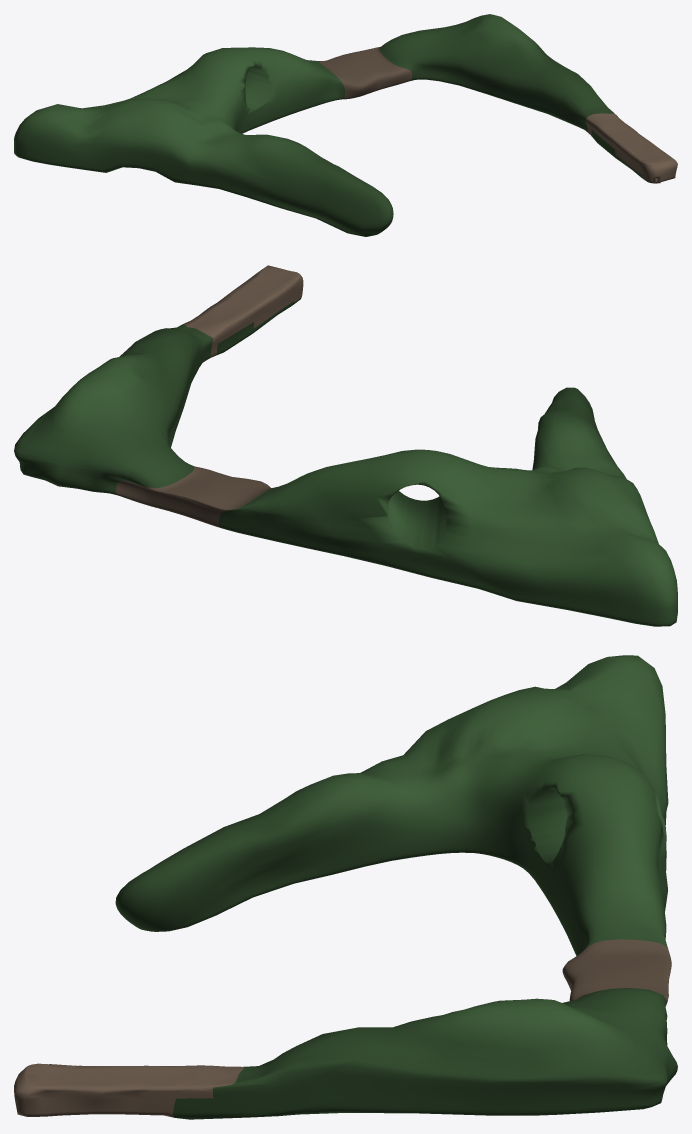
The model's file is Hole.fbx.
The picture shows the model from 3 angles, top to bottom: view 1: azimuth 30°, elevation 25°; view 2: azimuth 150°, elevation 25°; view 3: azimuth 270°, elevation 25°; orthographic projection. The views are drawn at different scales.
Visible parts, largest first — view 1: Cube.618; view 2: Cube.618; view 3: Cube.618.
Boxes of the visible parts, x1,y1,x2,y2 form: Cube.618: (14, 14, 677, 236); Cube.618: (14, 265, 677, 626); Cube.618: (14, 655, 677, 1119).
Size of the model in its own units: 26.25 by 18.37 by 4.65.
